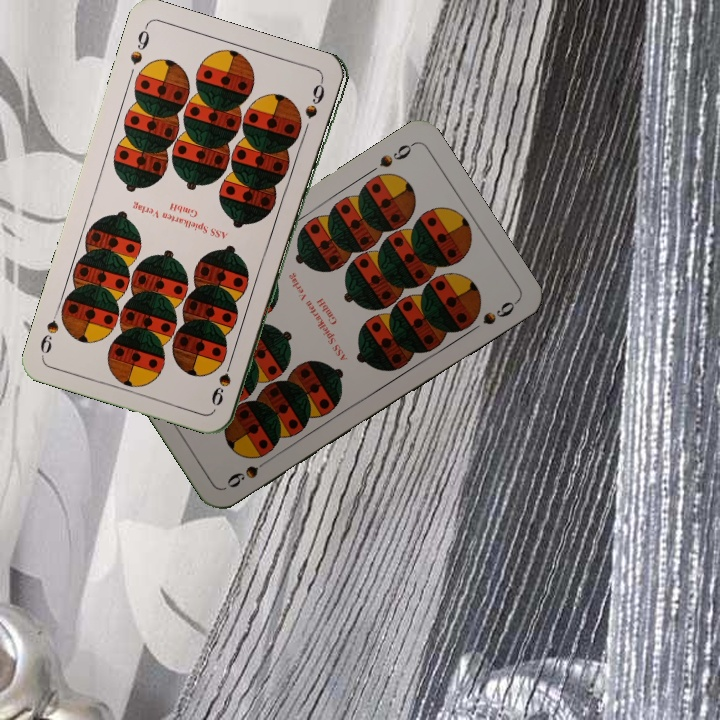S9: (222, 454, 275, 491), (209, 352, 236, 409), (375, 139, 417, 171), (126, 22, 152, 68)
